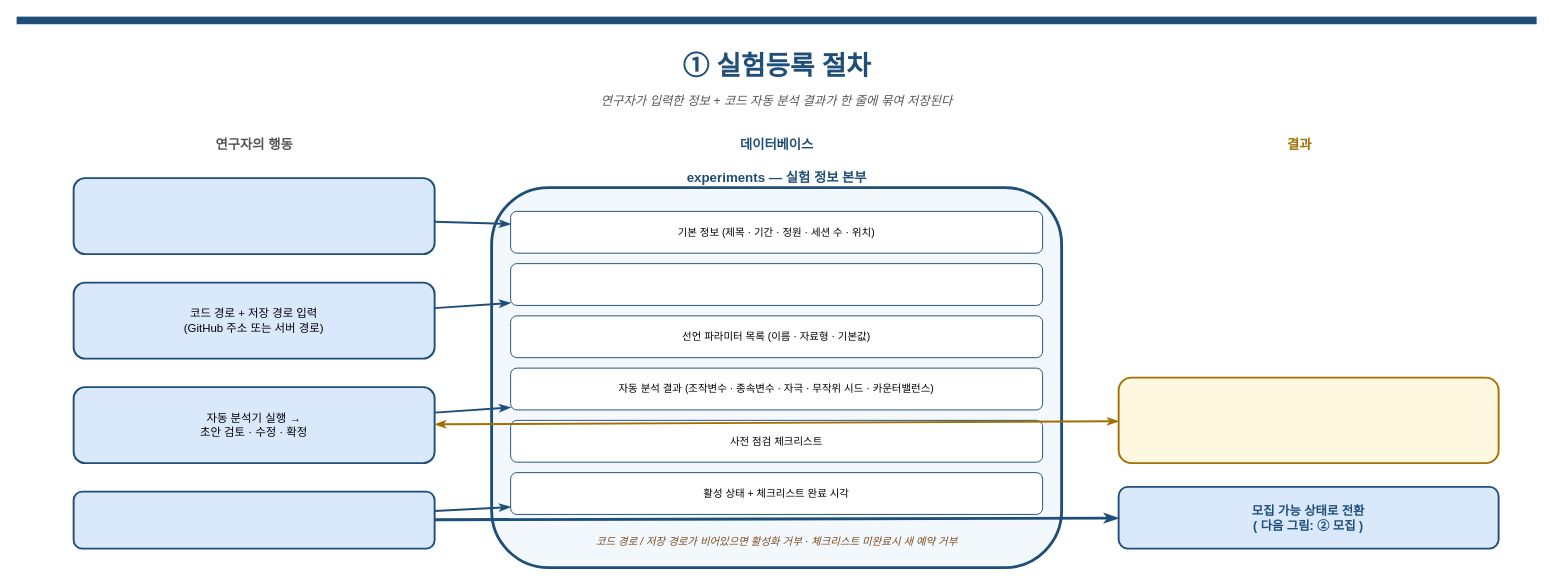
This 1552x585 diagram has some shape labels left out. The centre of each missing label's shape, as x and y in pixels:
사전 점검 체크리스트 완료 + 활성화: the point at 253,519
실험 정보 입력 (제목·기간·정원·세션 수·위치): the point at 253,216
코드 경로 + 저장 경로: the point at 776,284
코드 자동 분석기 (외부) 정규식 + AI 분석 → 결과 반환: the point at 1308,420
